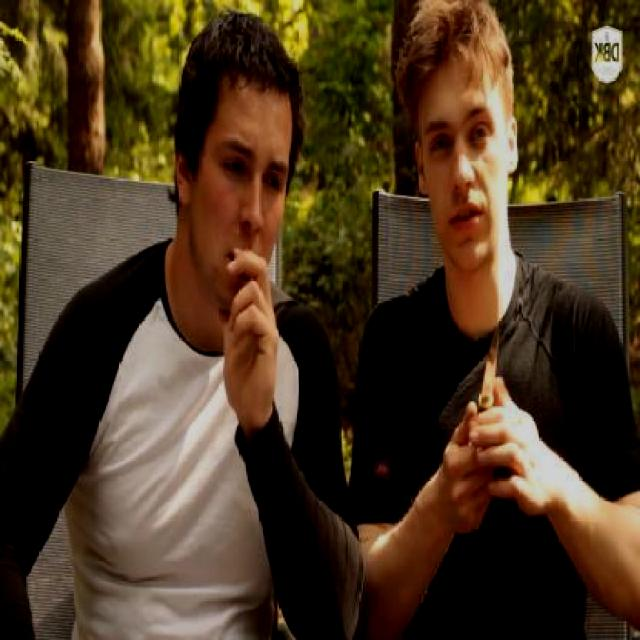knife: (451, 303, 512, 539)
